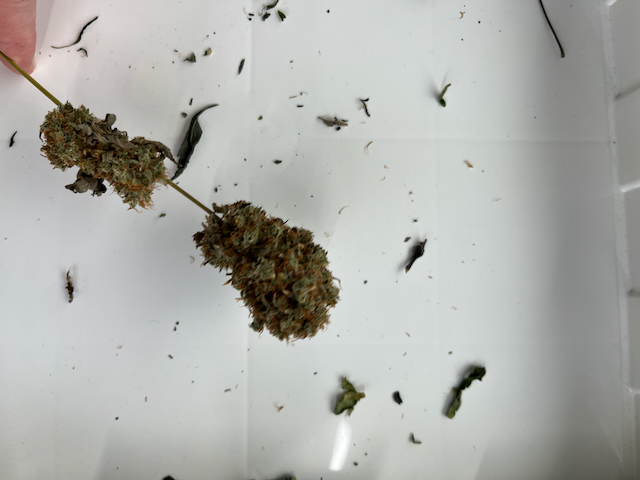Bud: (200, 200, 338, 343), (40, 101, 169, 209)
Stem: (0, 46, 68, 104), (152, 169, 225, 220)
